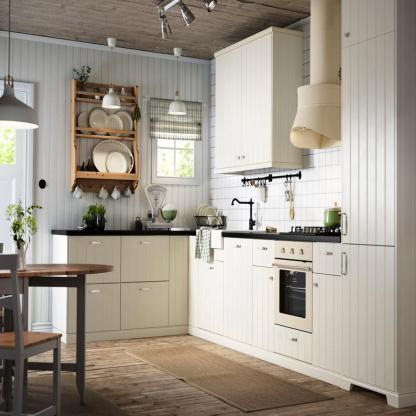Chair: (0, 252, 63, 416)
